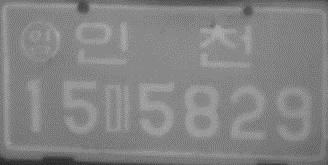1: (16, 75, 53, 134)
2: (228, 85, 268, 141)
5: (139, 81, 176, 138), (62, 79, 97, 136)
8: (183, 84, 221, 139)
9: (274, 86, 312, 142)
마: (102, 83, 133, 132)
영: (19, 19, 60, 63)
인천_D: (75, 20, 254, 71)
